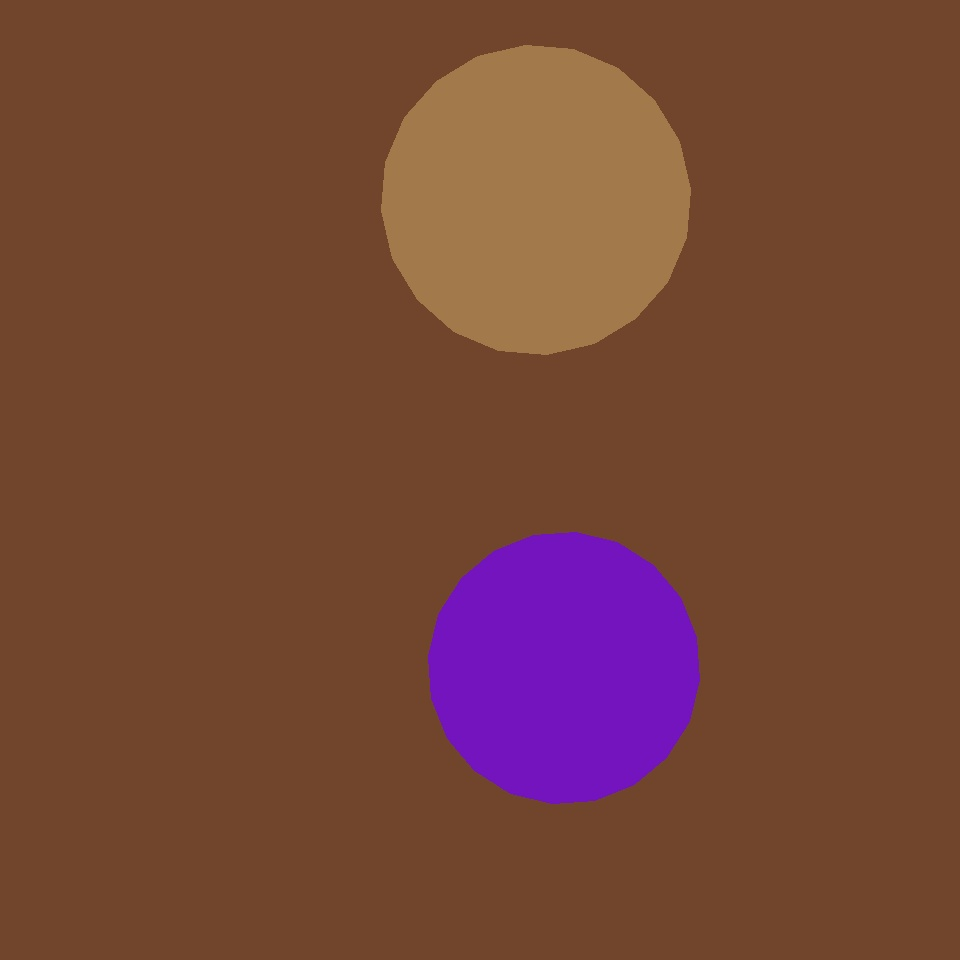triangle: (382, 46, 690, 354), (429, 532, 700, 804)
